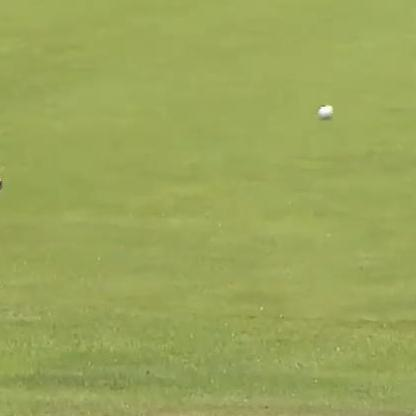golfball: (315, 102, 332, 119)
